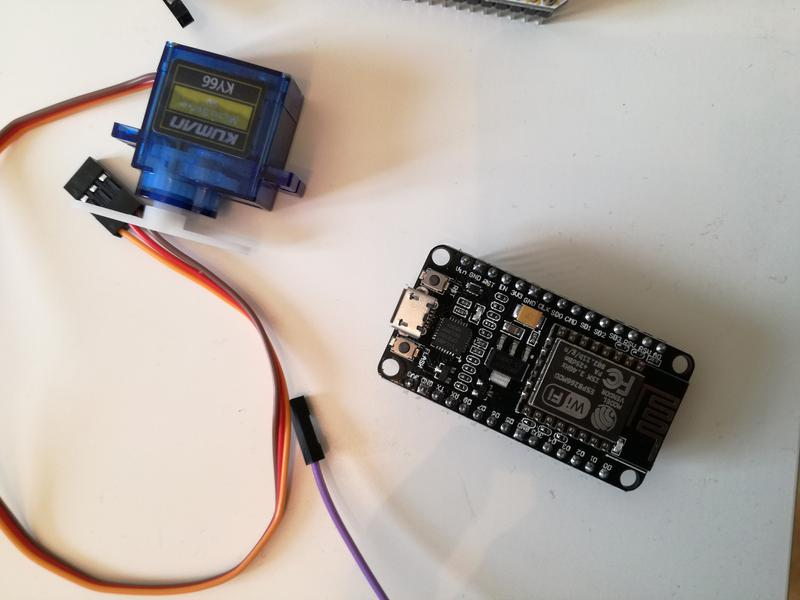ESP8266: (375, 240, 698, 499)
